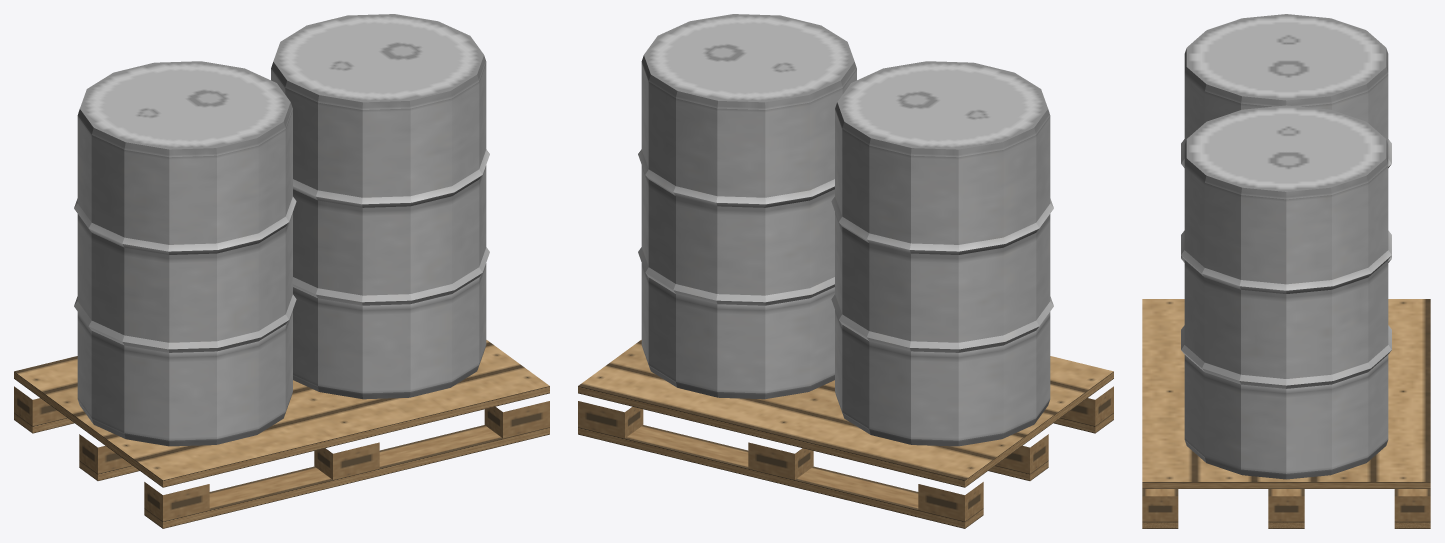
The model's file is paleta_barely.glb.
3 renders of one model, left to right at view 1: azimuth 30°, elevation 25°; view 2: azimuth 150°, elevation 25°; view 3: azimuth 270°, elevation 25°, orthographic. The views are drawn at different scales.
Visible parts, largest first — view 1: paleta_barely; view 2: paleta_barely; view 3: paleta_barely.
Boxes of the visible parts, box(x1,y1,x2,y2) form: paleta_barely: box(14, 14, 549, 528); paleta_barely: box(578, 14, 1113, 528); paleta_barely: box(1142, 14, 1430, 528).
Bounding box in the file's own units: 1.2 × 1.02 × 0.8.
Materials: 1 (1 with a texture image).
